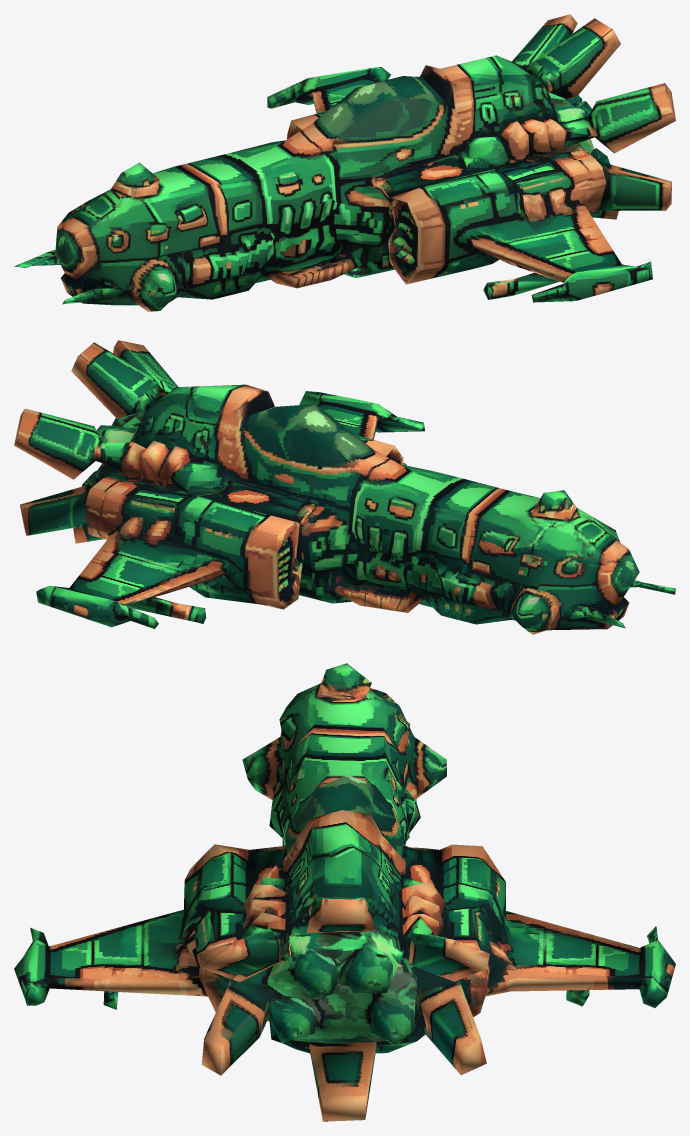
The model's file is player_ship_2.glb.
3 views of the same model, one above another, from view 1: azimuth 30°, elevation 25°; view 2: azimuth 150°, elevation 25°; view 3: azimuth 270°, elevation 25° (orthographic). The views are drawn at different scales.
Parts seen in each view (by area): view 1: Mesh_0; view 2: Mesh_0; view 3: Mesh_0.
Boxes of the visible parts, <box> form: Mesh_0: <box>14,14,675,311</box>; Mesh_0: <box>14,340,675,634</box>; Mesh_0: <box>14,663,675,1121</box>.
Bounding box in the file's own units: 1.91 × 0.5915 × 1.61.
1 material, 1 textured.
